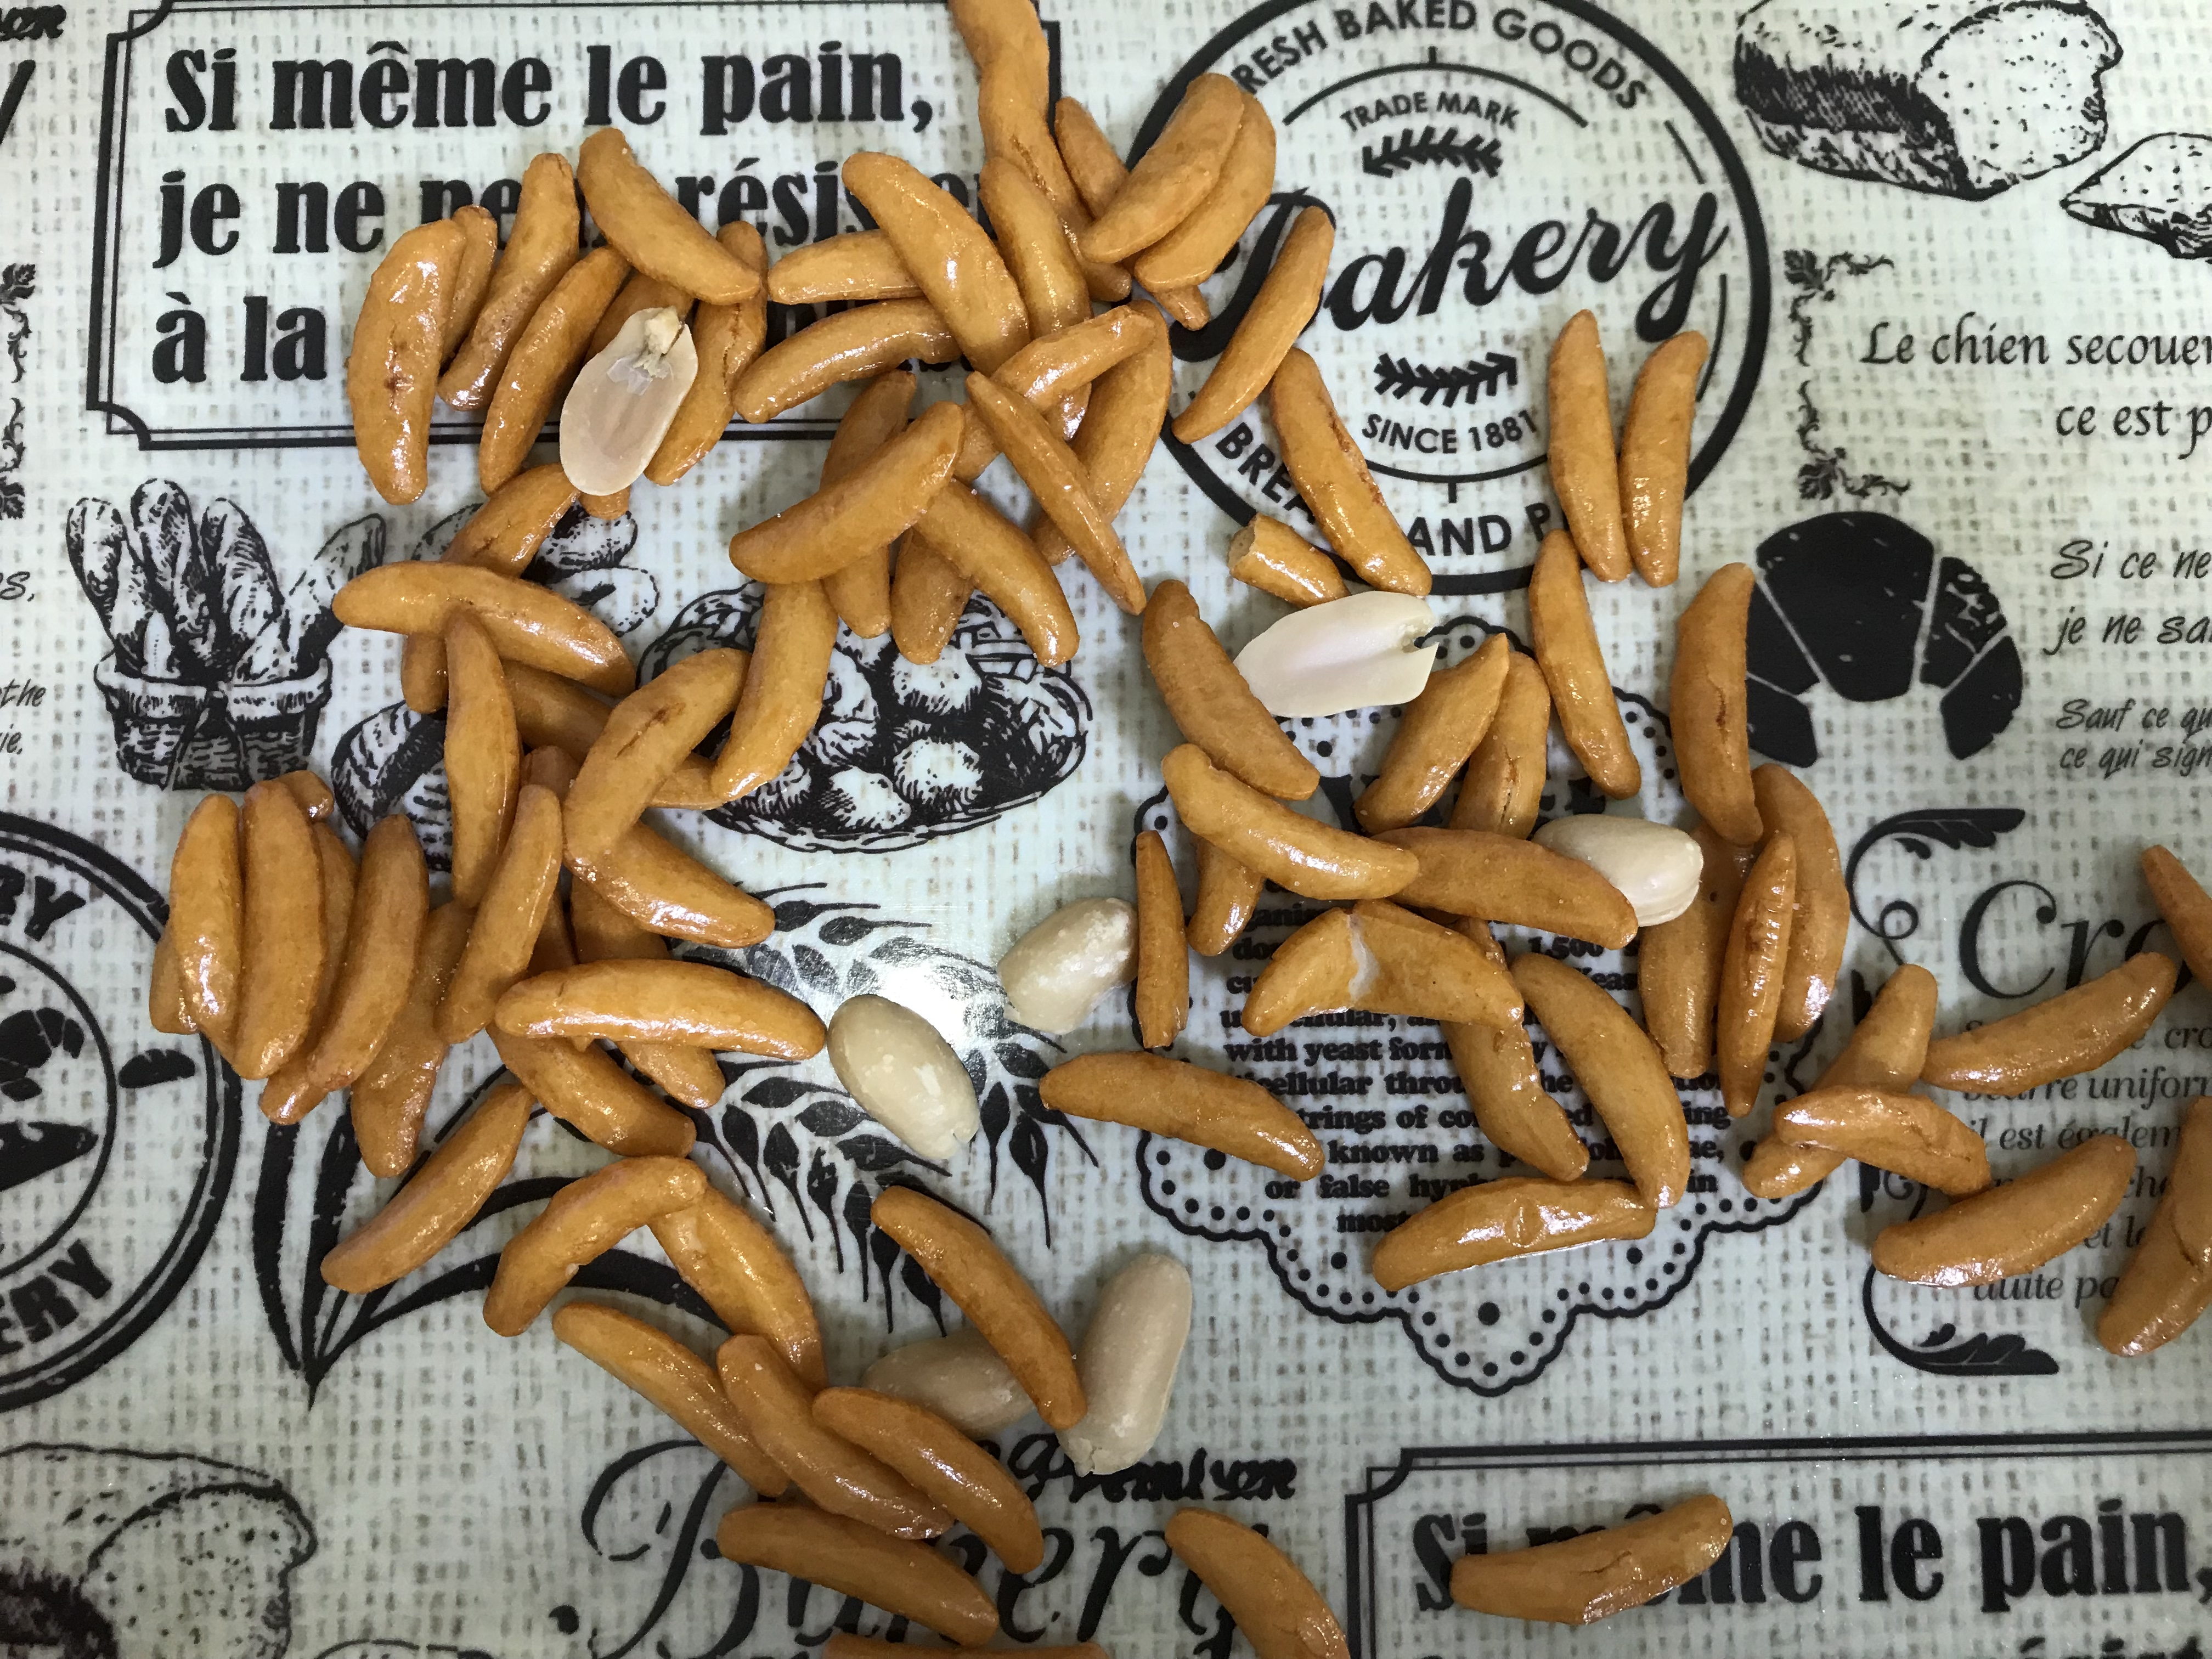peanut: (1059, 1246, 1204, 1481), (817, 985, 1001, 1168), (561, 296, 704, 500), (1235, 586, 1442, 716), (991, 884, 1144, 1039), (1524, 810, 1707, 931), (852, 1328, 1054, 1431)
